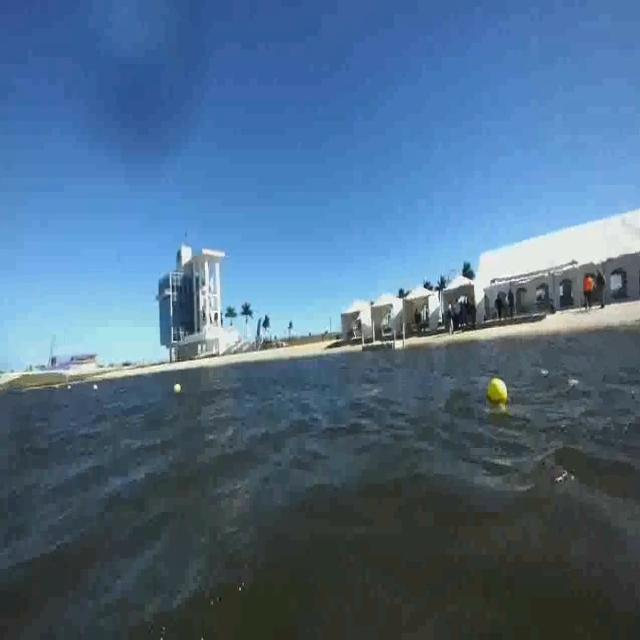yellow-buoy: (487, 375, 507, 401), (173, 382, 183, 396)
